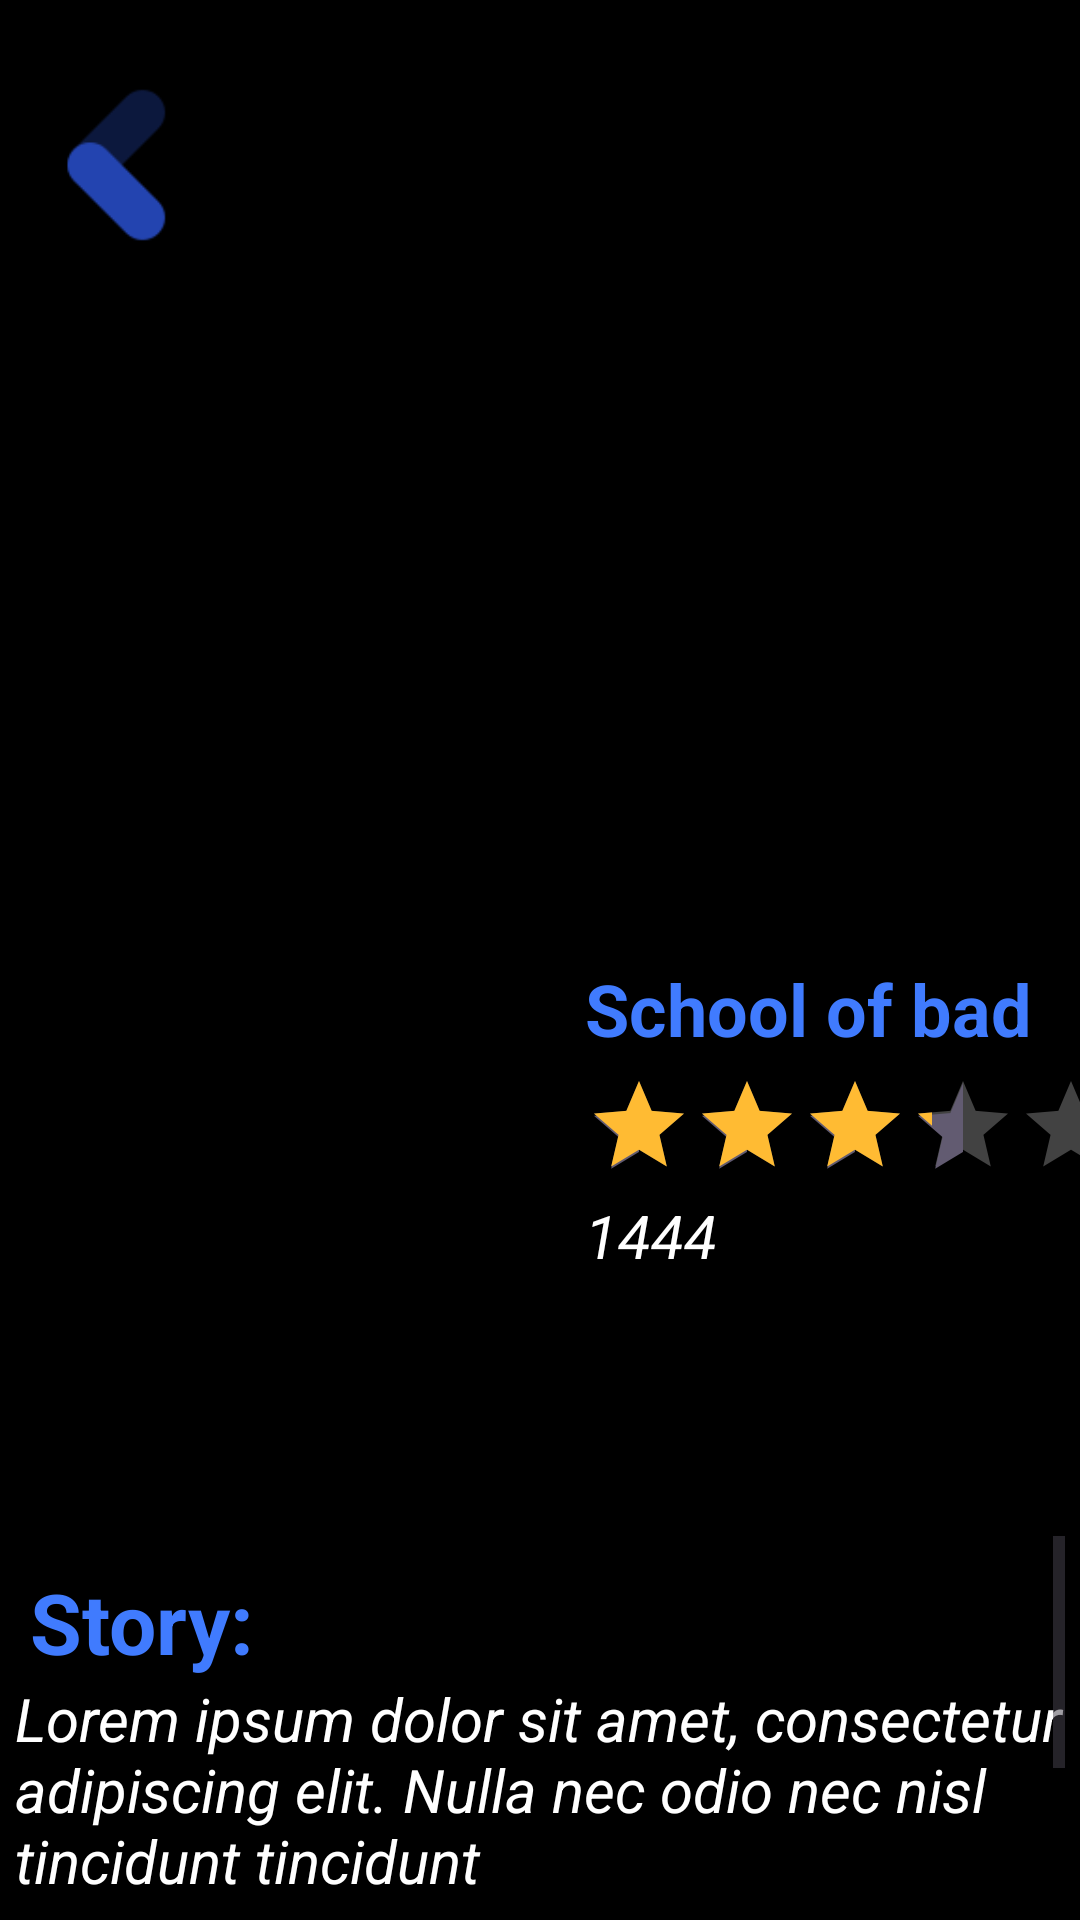

Icon bounding boxes for this 1080 × 1920 phone screenshot, format (x1, y1, x2, y2):
back cutom: (67, 90, 166, 241)
